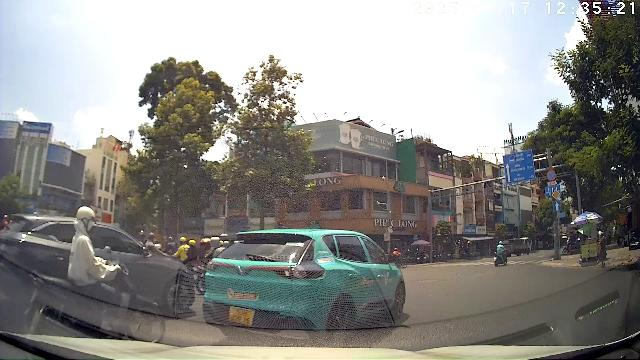131a-cam-do-xe: (546, 170, 556, 180)
